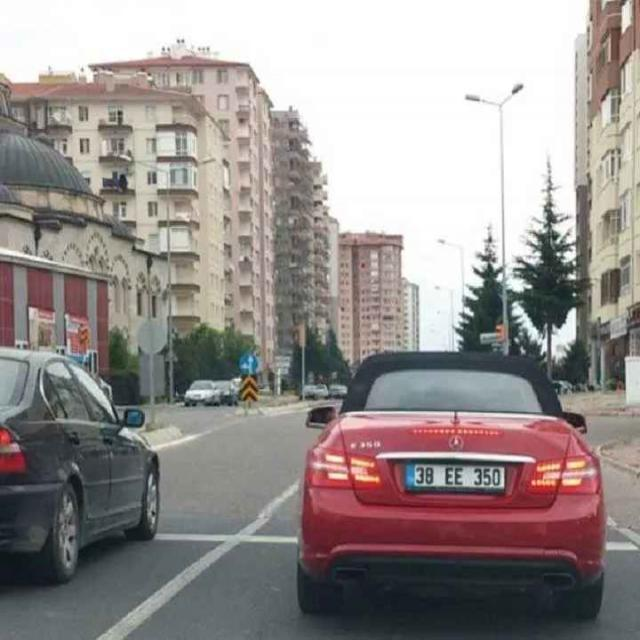plate: (406, 461, 508, 495)
